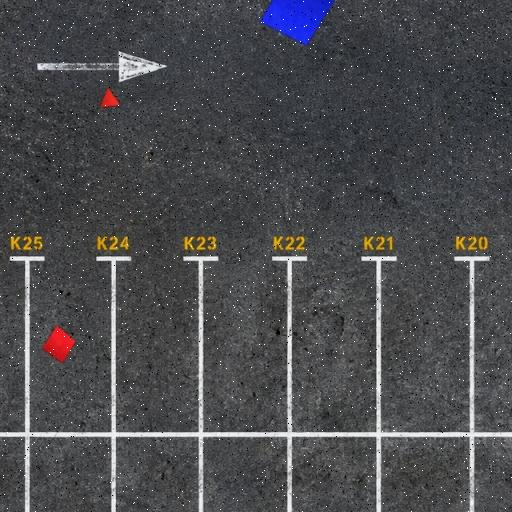BLUE_SQUARE: (259, 0, 336, 46)
RED_SQUARE: (42, 325, 76, 364)
